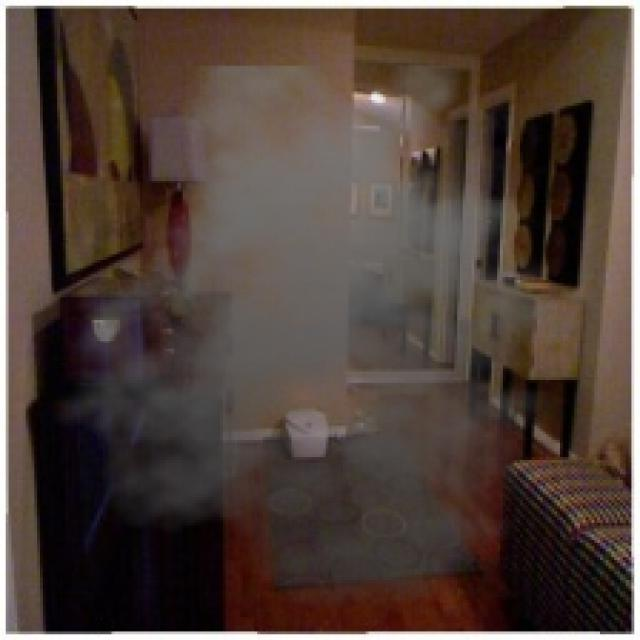smoke: (51, 66, 614, 611)
